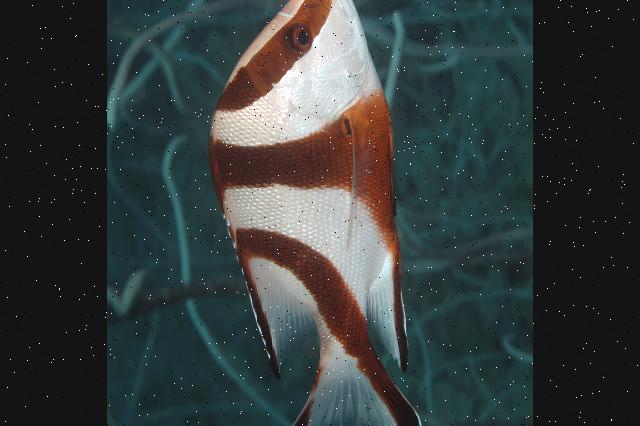Mulut: (303, 0, 369, 66)
Sirip Anal: (353, 238, 423, 389)
Sirip Dada: (334, 93, 384, 273)
Sirip Ekor: (260, 356, 437, 426)
Sirip Punggung: (200, 111, 326, 385)
